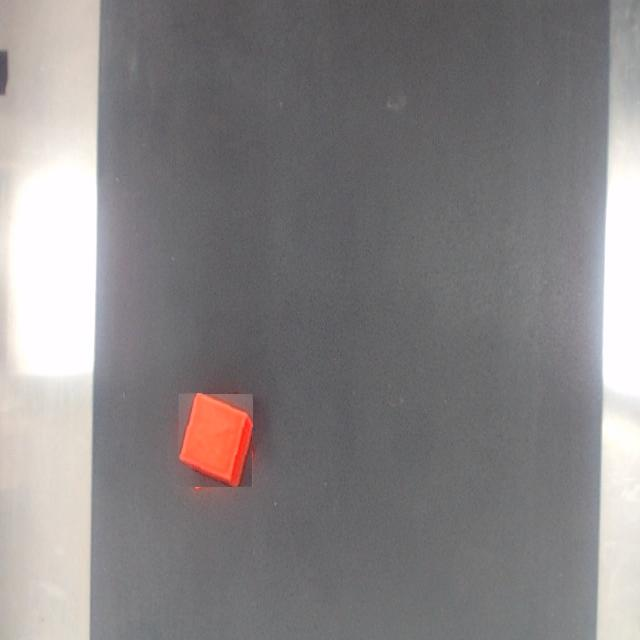Rojo: (179, 394, 253, 487)
